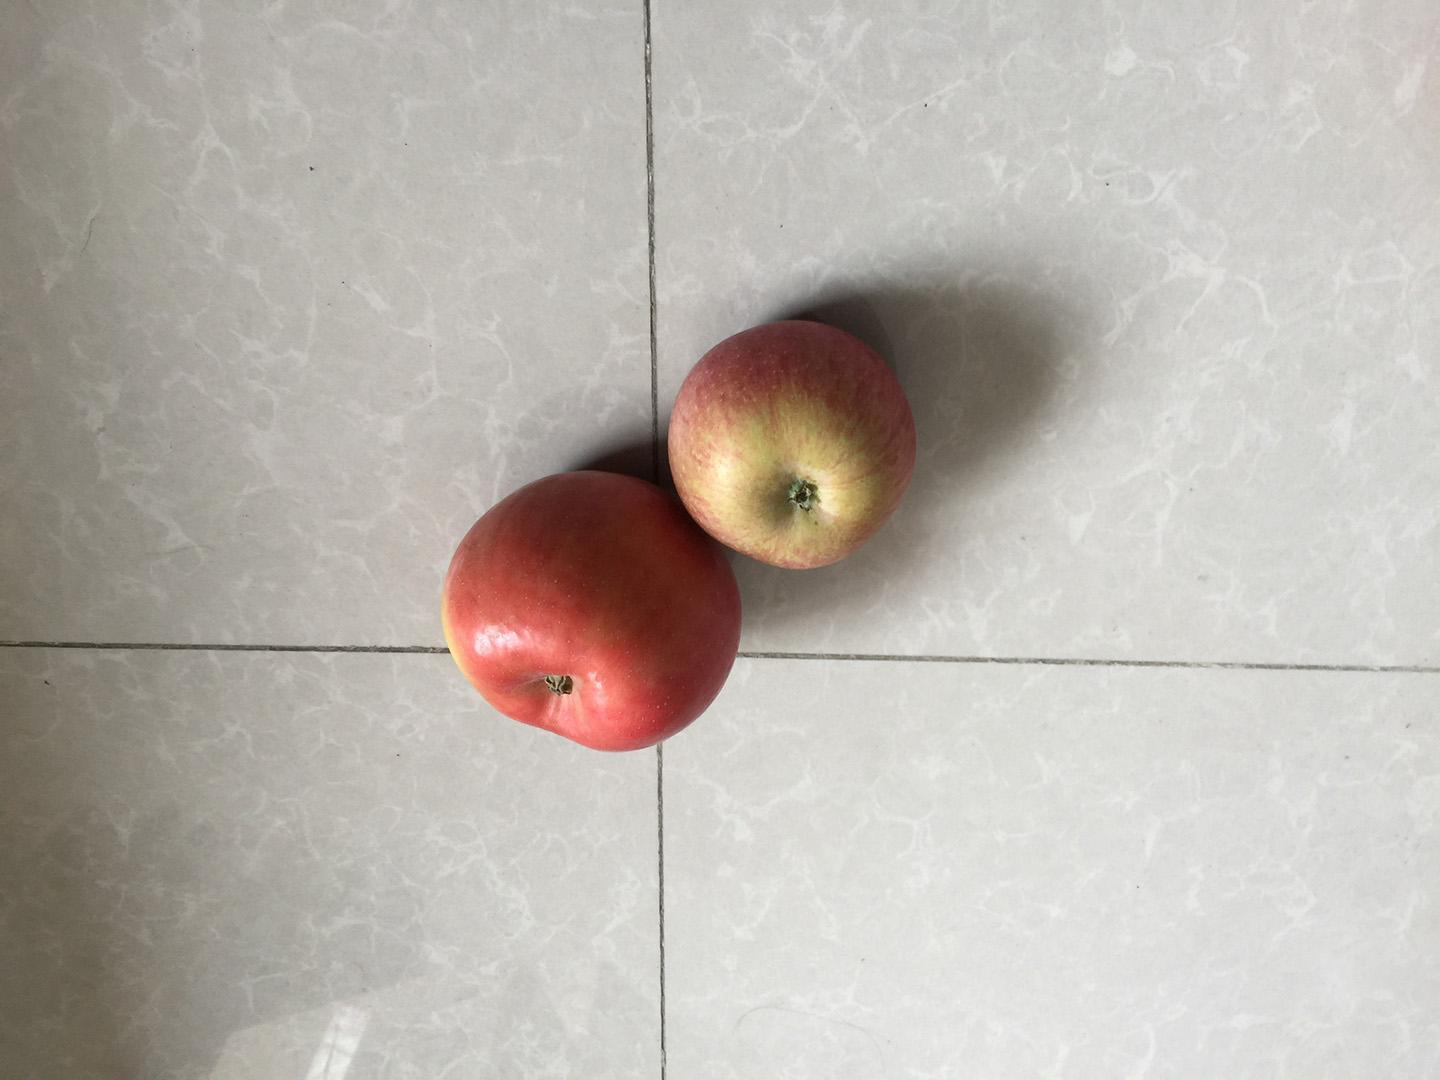apple: (435, 454, 751, 762), (657, 313, 926, 577)
